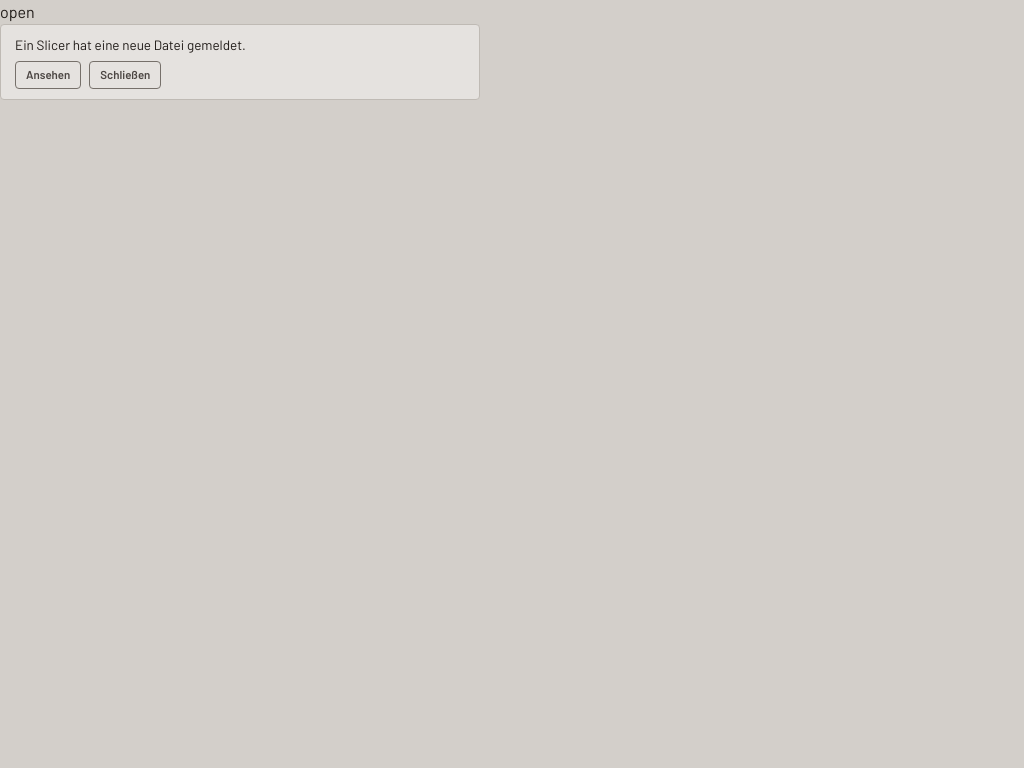
Test: notice and inbox › lists a report with its facts, the suggestion marked sure, and the explicit tick for the catalog
This screenshot has width=1024, height=768.
Click the button "Ansehen". click: (48, 75)
box: [15, 61, 81, 89]
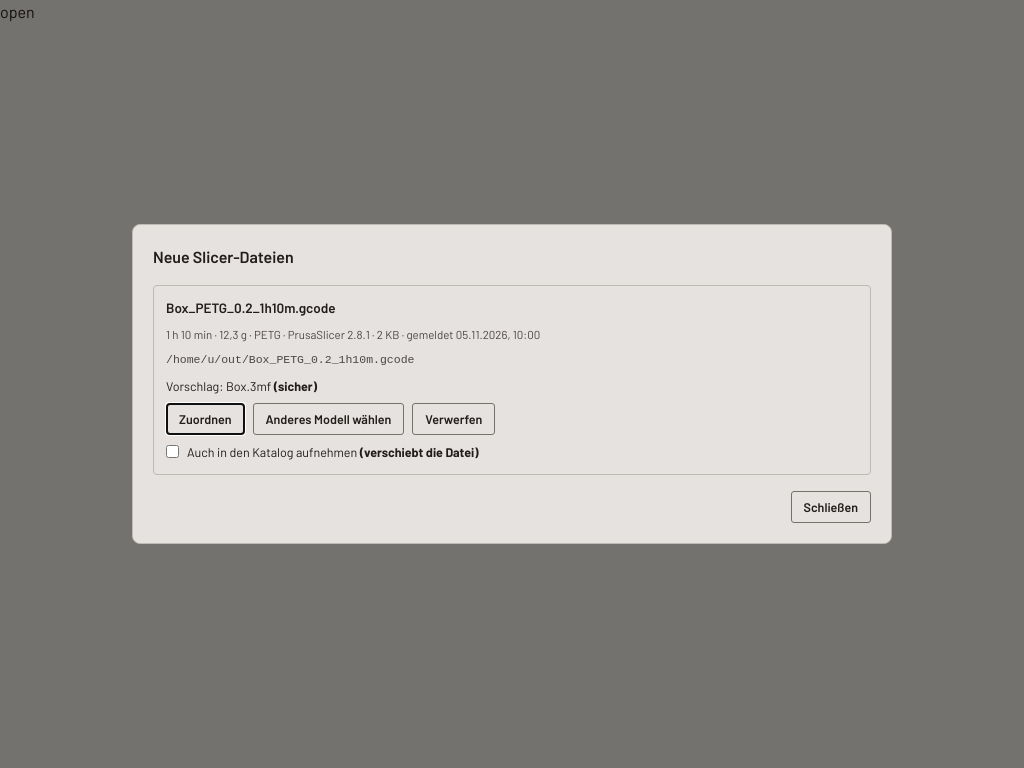
Now the dialog "Neue Slicer-Dateien" shows "Box_PETG_0.2_1h10m.gcode", box [166, 299, 336, 316]
Now the dialog "Neue Slicer-Dateien" shows "1 h 10 min", box [166, 327, 540, 341]
Now the dialog "Neue Slicer-Dateien" shows "12,3 g", box [166, 327, 540, 341]
Click the checkbox labelled "Auch in den Katalog aufnehmen (verschiebt die Datei)". click: (172, 452)
box: [166, 445, 179, 458]
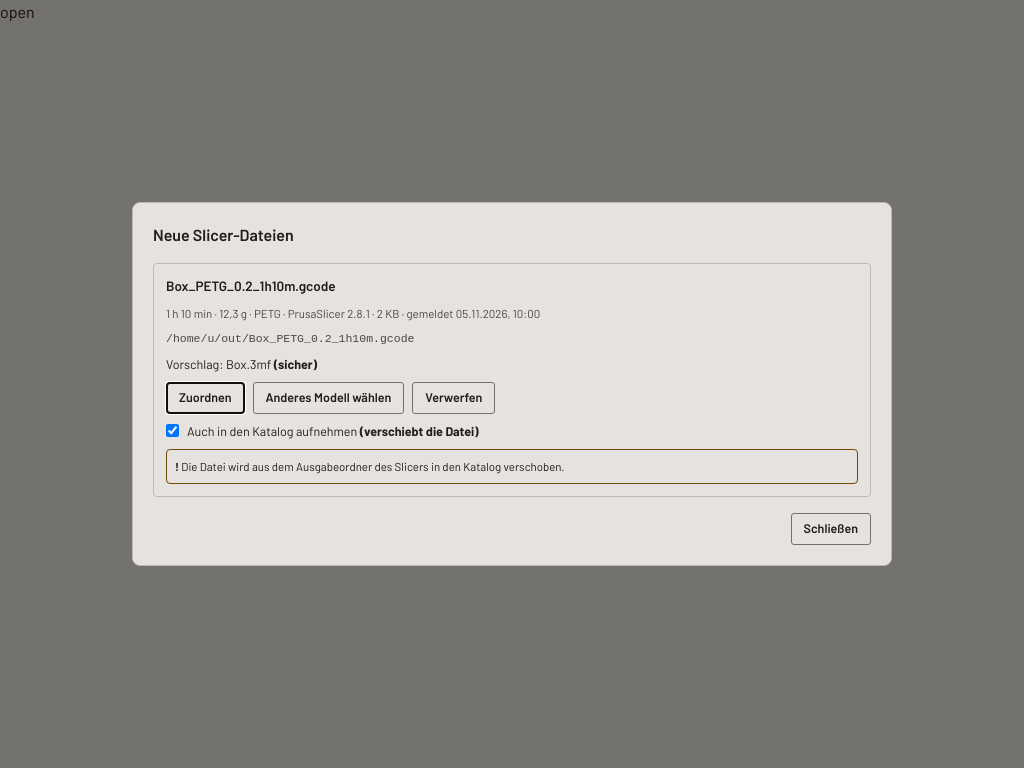
Now the text "aus dem Ausgabeordner des Slicers in den Katalog verschoben" is shown, box [181, 458, 564, 472]
